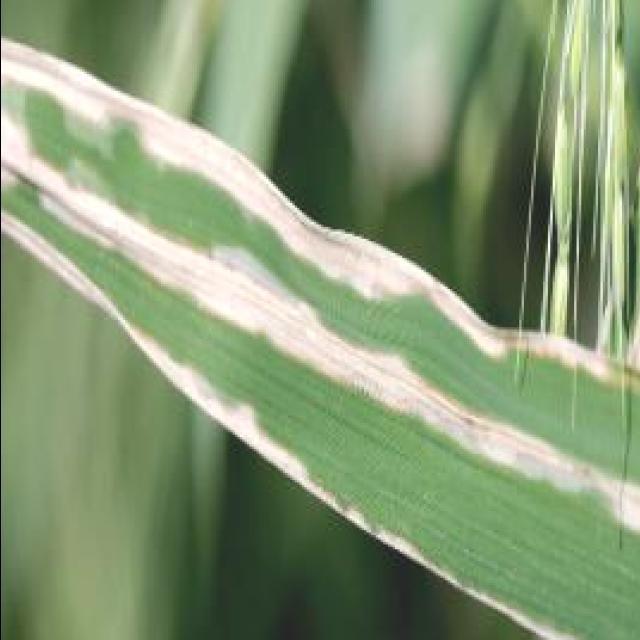Bacterial_Leaf_Blight: (0, 100, 499, 398)
